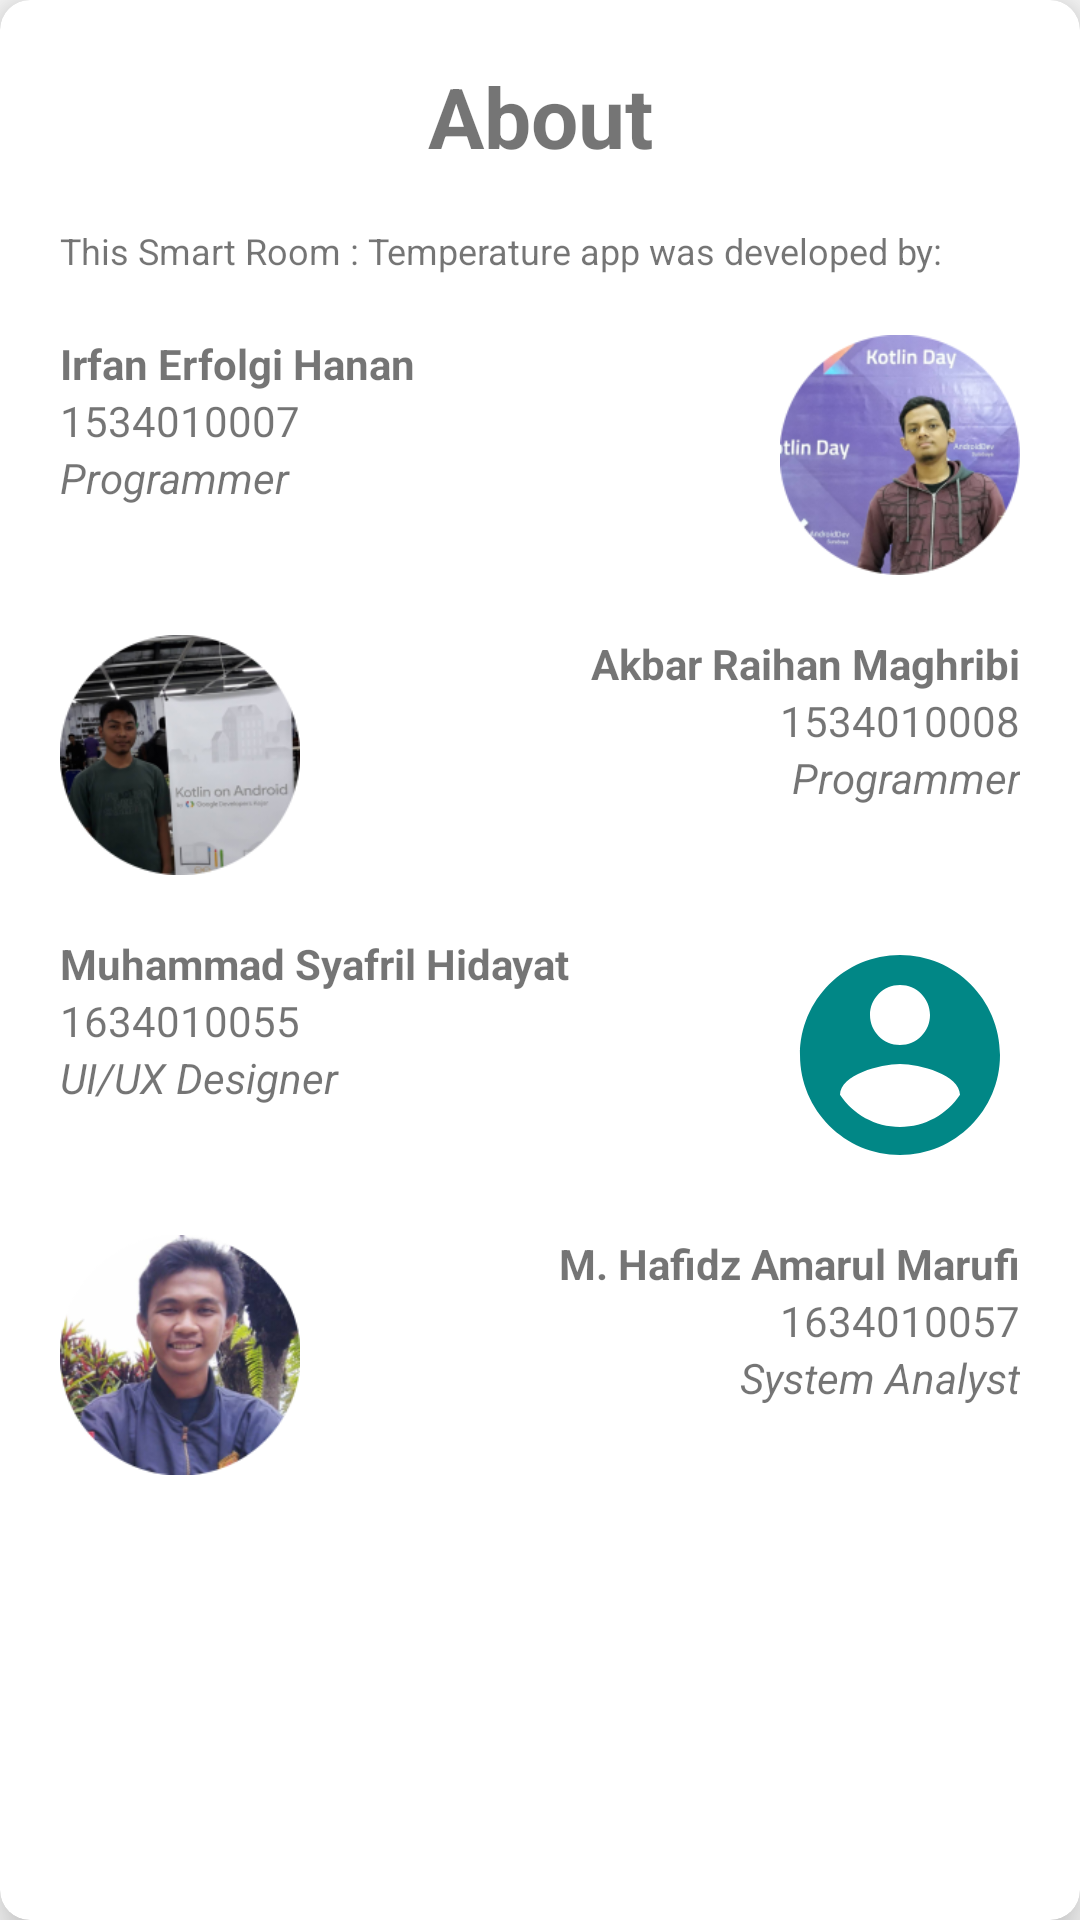

Icons on this 1080w x 1920h Android screen, each with the point to tap as point (x, y):
orang: point (899, 1055)
